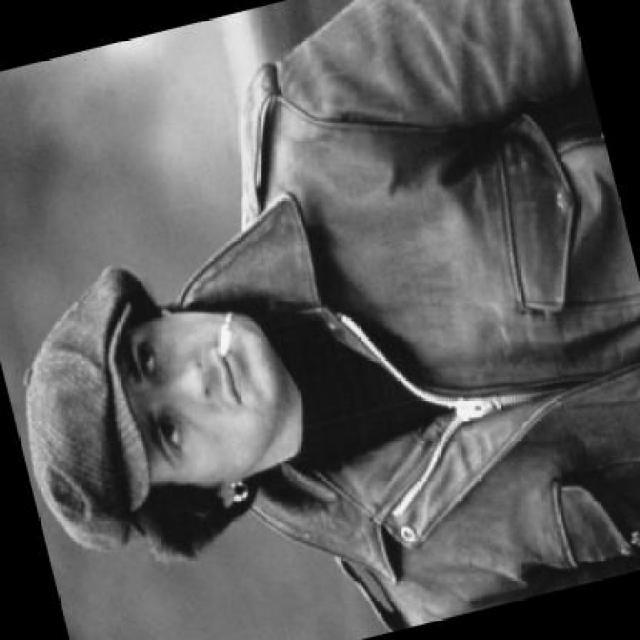smoke: (207, 306, 244, 360)
